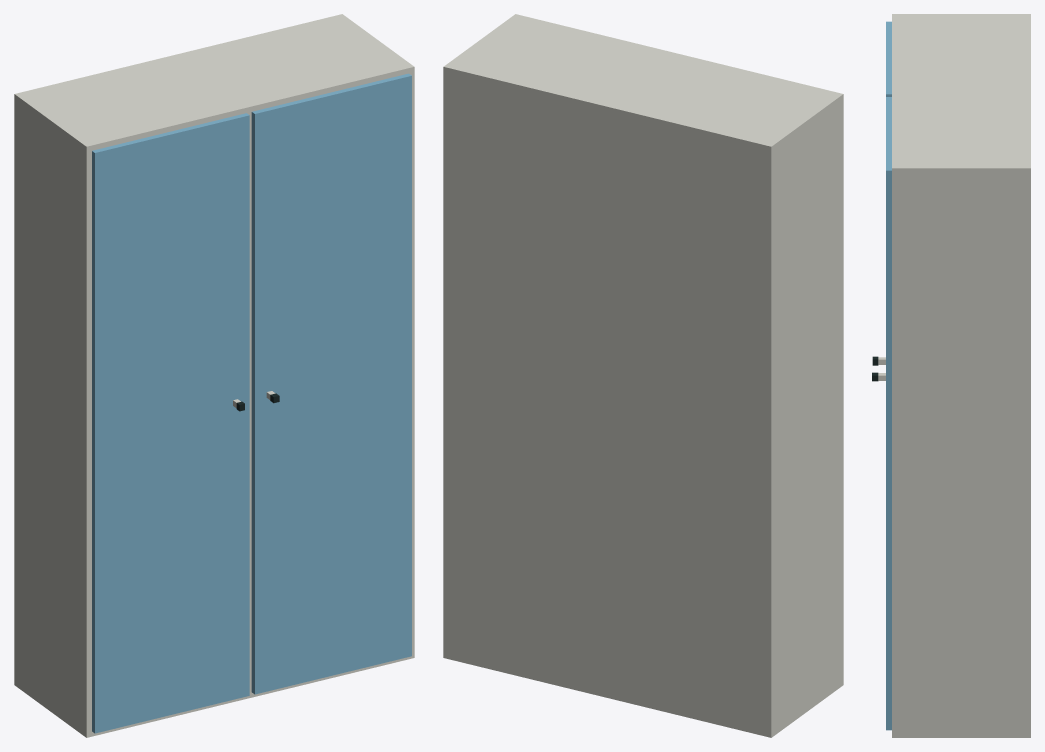
File: armario.fbx
3 views of the same model, side by side, from view 1: azimuth 30°, elevation 25°; view 2: azimuth 150°, elevation 25°; view 3: azimuth 270°, elevation 25° (orthographic). The views are drawn at different scales.
Parts seen in each view (by area): view 1: Armario; view 2: Armario; view 3: Armario.
Boxes of the visible parts, x1=… form: Armario: x1=14, y1=14, x2=414, y2=737; Armario: x1=443, y1=14, x2=843, y2=737; Armario: x1=872, y1=14, x2=1030, y2=737.
Size of the model in its own units: 525 by 905 by 229.
